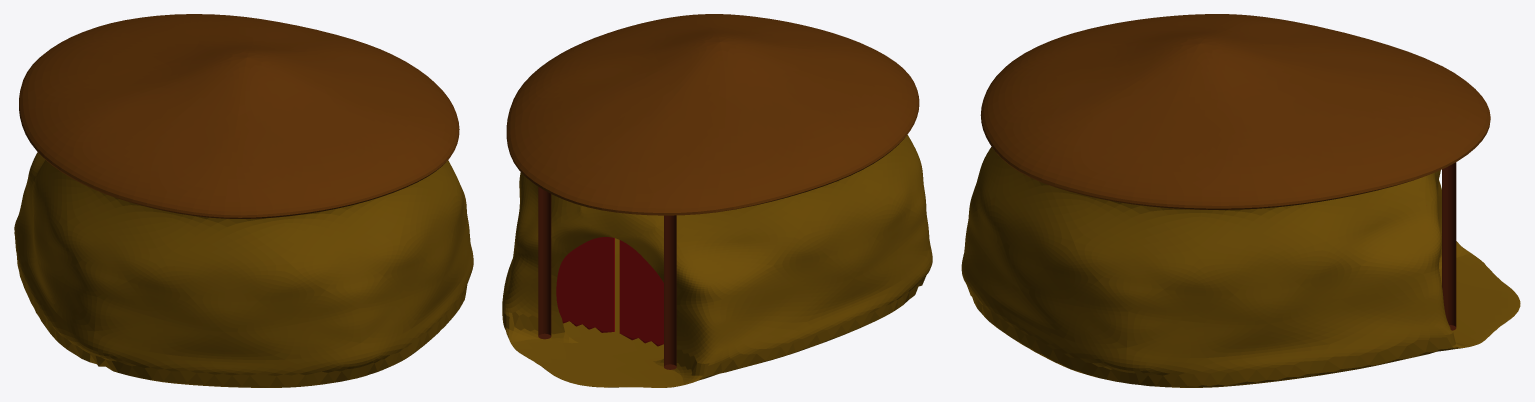
File: Yurt.fbx
3 renders of one model, left to right at view 1: azimuth 30°, elevation 25°; view 2: azimuth 150°, elevation 25°; view 3: azimuth 270°, elevation 25°, orthographic. The views are drawn at different scales.
Visible parts, largest first — view 1: Icosphere, Icosphere.002; view 2: Icosphere.002, Icosphere, Cube, Icosphere.001; view 3: Icosphere, Icosphere.002, Icosphere.001.
Part boxes in pixels (x1,y1,x2,y2): Icosphere: [14, 152, 473, 387]; Icosphere.002: [19, 14, 459, 218]; Icosphere.002: [506, 14, 919, 215]; Icosphere: [502, 135, 932, 387]; Cube: [556, 237, 663, 346]; Icosphere.001: [538, 187, 676, 369]; Icosphere: [961, 147, 1520, 387]; Icosphere.002: [980, 14, 1490, 209]; Icosphere.001: [1442, 162, 1456, 330].
Size of the model in its own units: 311 by 195 by 377.
